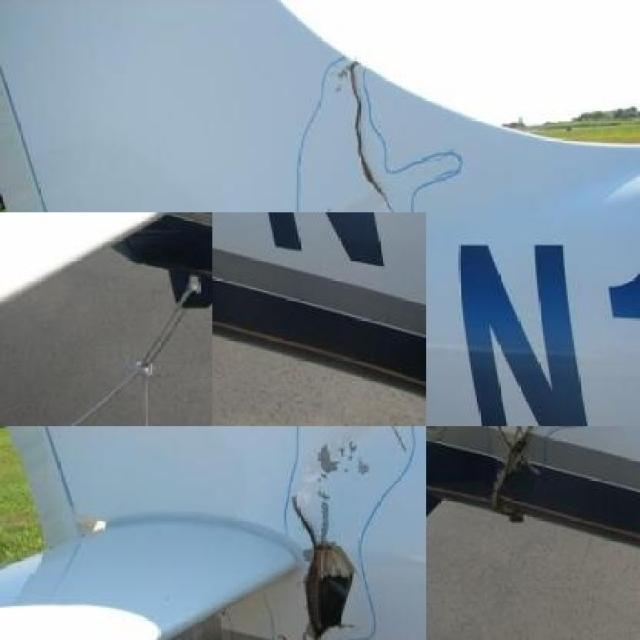crack: (337, 85, 390, 211)
